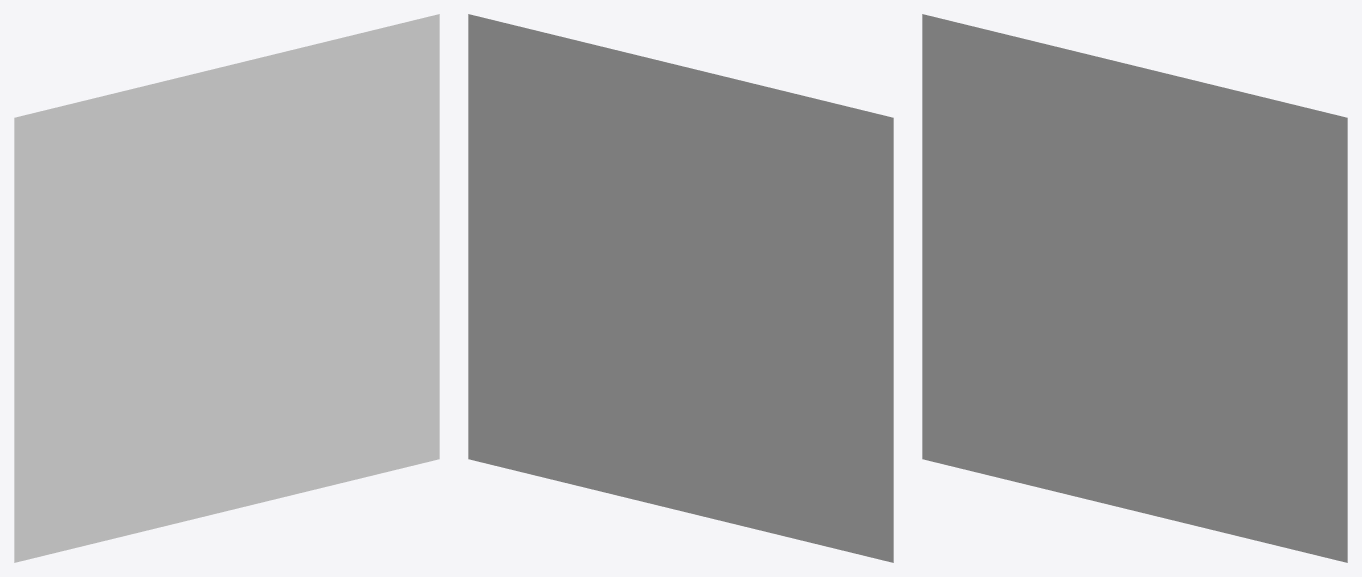
The model's file is lights1.dae.
3 views of the same model, side by side, from view 1: azimuth 30°, elevation 25°; view 2: azimuth 150°, elevation 25°; view 3: azimuth 330°, elevation 25° (orthographic).
Parts seen in each view (by area): view 1: n0b0; view 2: n0b0; view 3: n0b0.
Part boxes in pixels (x1,y1,x2,y2): n0b0: (14,14,439,562); n0b0: (468,14,893,562); n0b0: (922,14,1347,562).
Size of the model in its own units: 1998 by 1998 by 42.18.
Materials: 1 (1 with a texture image).
